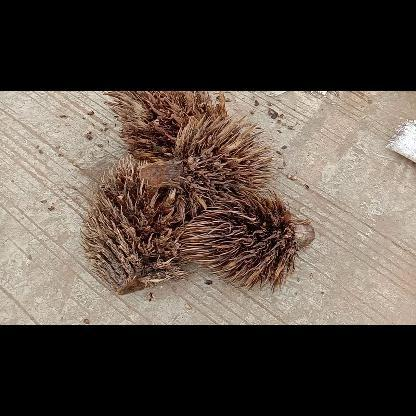Janjang kosong: (84, 155, 186, 290), (84, 155, 186, 290), (182, 194, 314, 290), (171, 112, 277, 216), (98, 91, 228, 159)
